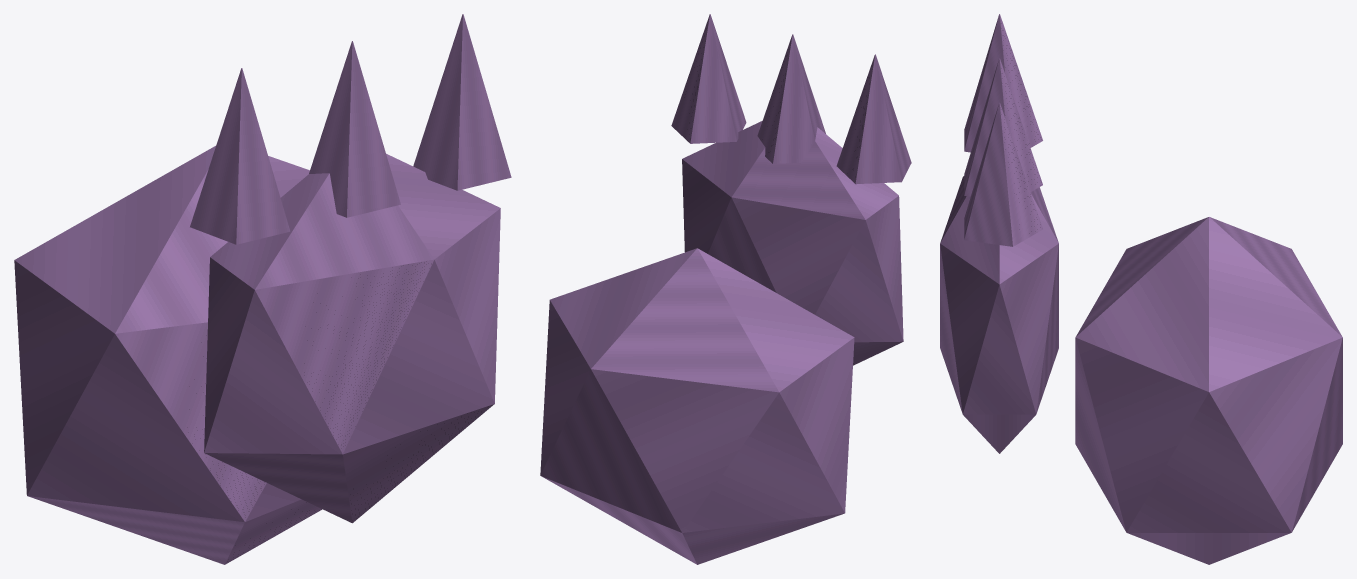
The model's file is resonant_debt.glb.
The picture shows the model from 3 angles, left to right: view 1: azimuth 30°, elevation 25°; view 2: azimuth 150°, elevation 25°; view 3: azimuth 270°, elevation 25°; orthographic projection. The views are drawn at different scales.
Parts seen in each view (by area): view 1: gear_resonant_debt; view 2: gear_resonant_debt; view 3: gear_resonant_debt.
Part boxes in pixels (<box>): gear_resonant_debt: <box>14,14,511,564</box>; gear_resonant_debt: <box>540,14,911,564</box>; gear_resonant_debt: <box>940,14,1342,564</box>.
Size of the model in its own units: 0.2147 by 0.32 by 0.2306.
1 material, 1 textured.
